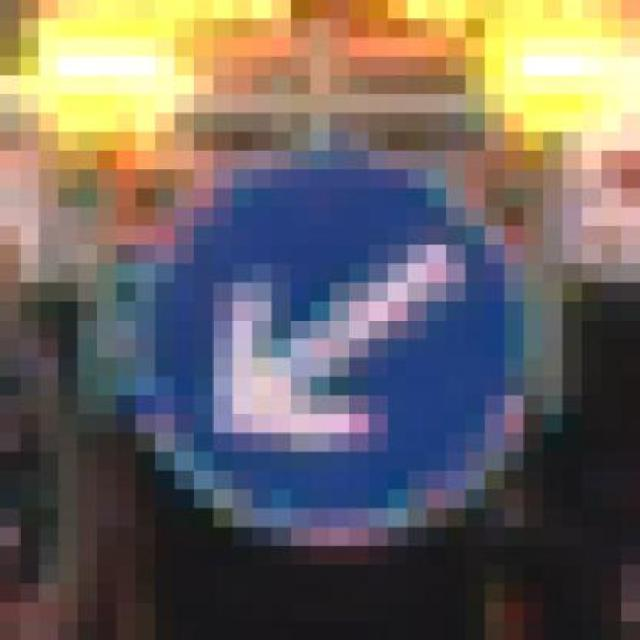Keep-Left: (97, 132, 543, 566)
